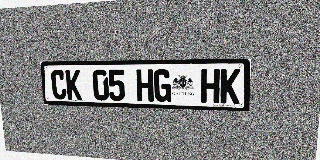0: (92, 70, 109, 101)
5: (108, 70, 125, 101)
C: (50, 70, 67, 100)
G: (154, 69, 171, 102)
H: (201, 69, 220, 103), (136, 69, 154, 102)
K: (220, 69, 240, 104), (65, 70, 82, 100)
